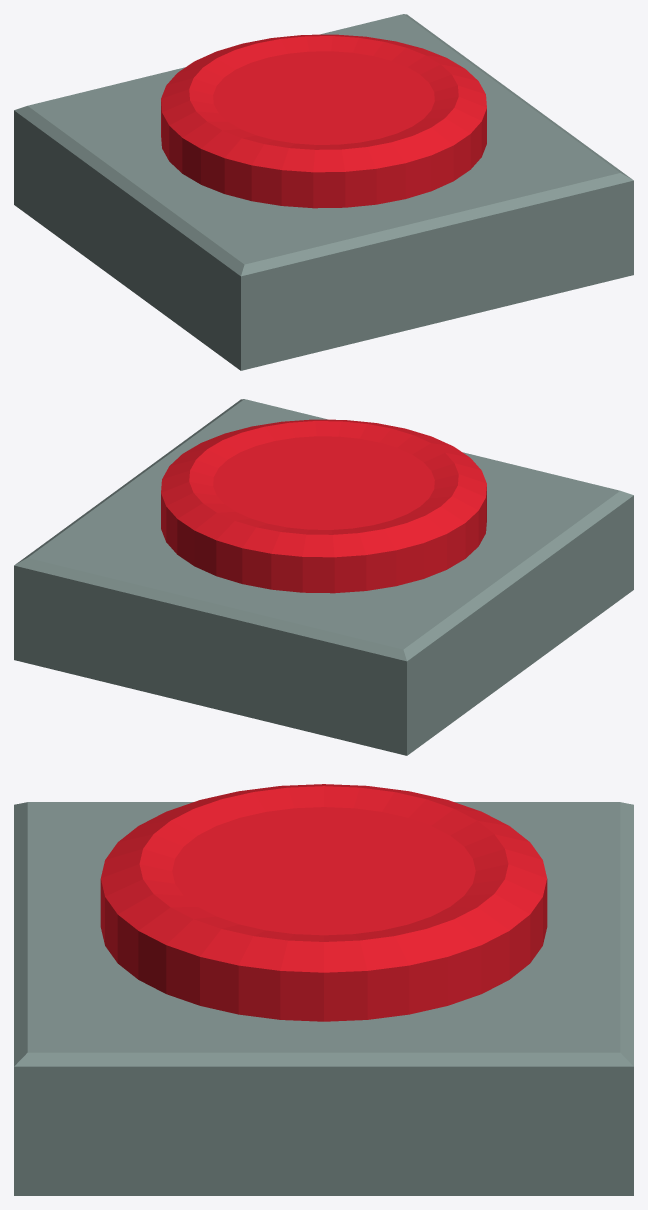
Rendered from button.glb.
3 views of the same model, one above another, from view 1: azimuth 30°, elevation 25°; view 2: azimuth 150°, elevation 25°; view 3: azimuth 270°, elevation 25° (orthographic). The views are drawn at different scales.
Parts seen in each view (by area): view 1: base, button; view 2: base, button; view 3: base, button.
Part boxes in pixels (left/top/right/bottom): base: left=14, top=14, right=633, bottom=370; button: left=161, top=34, right=486, bottom=208; base: left=14, top=399, right=633, bottom=755; button: left=161, top=419, right=486, bottom=593; base: left=14, top=802, right=633, bottom=1195; button: left=100, top=784, right=547, bottom=1021.
Bounding box in the file's own units: 2 × 0.7148 × 2.
